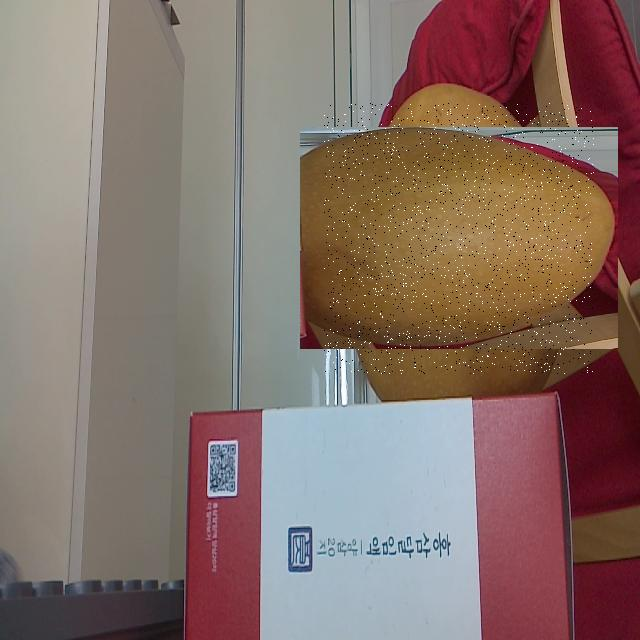pear: (324, 103, 594, 374)
